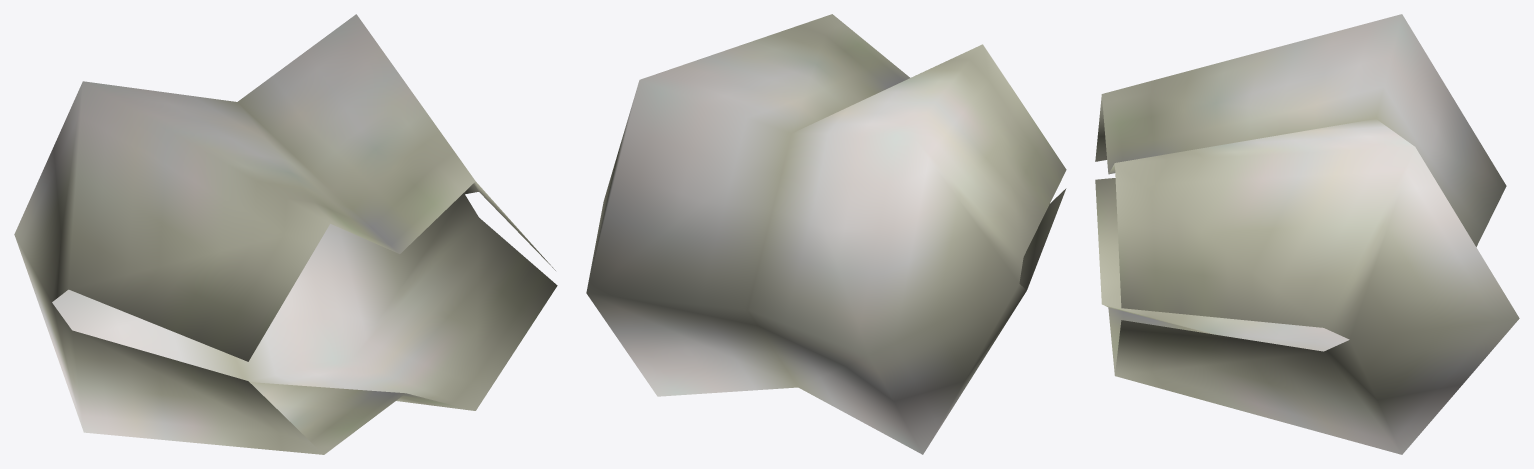
The model's file is batch_0085.obj.
3 renders of one model, left to right at view 1: azimuth 30°, elevation 25°; view 2: azimuth 150°, elevation 25°; view 3: azimuth 270°, elevation 25°, orthographic. The views are drawn at different scales.
Parts seen in each view (by area): view 1: batch_0085; view 2: batch_0085; view 3: batch_0085.
Part boxes in pixels (box(x1,y1,x2,y2)): batch_0085: box(14, 14, 557, 454); batch_0085: box(586, 14, 1066, 454); batch_0085: box(1095, 14, 1519, 454).
Size of the model in its own units: 17.5 by 13.5 by 16.25.
1 material, 1 textured.
